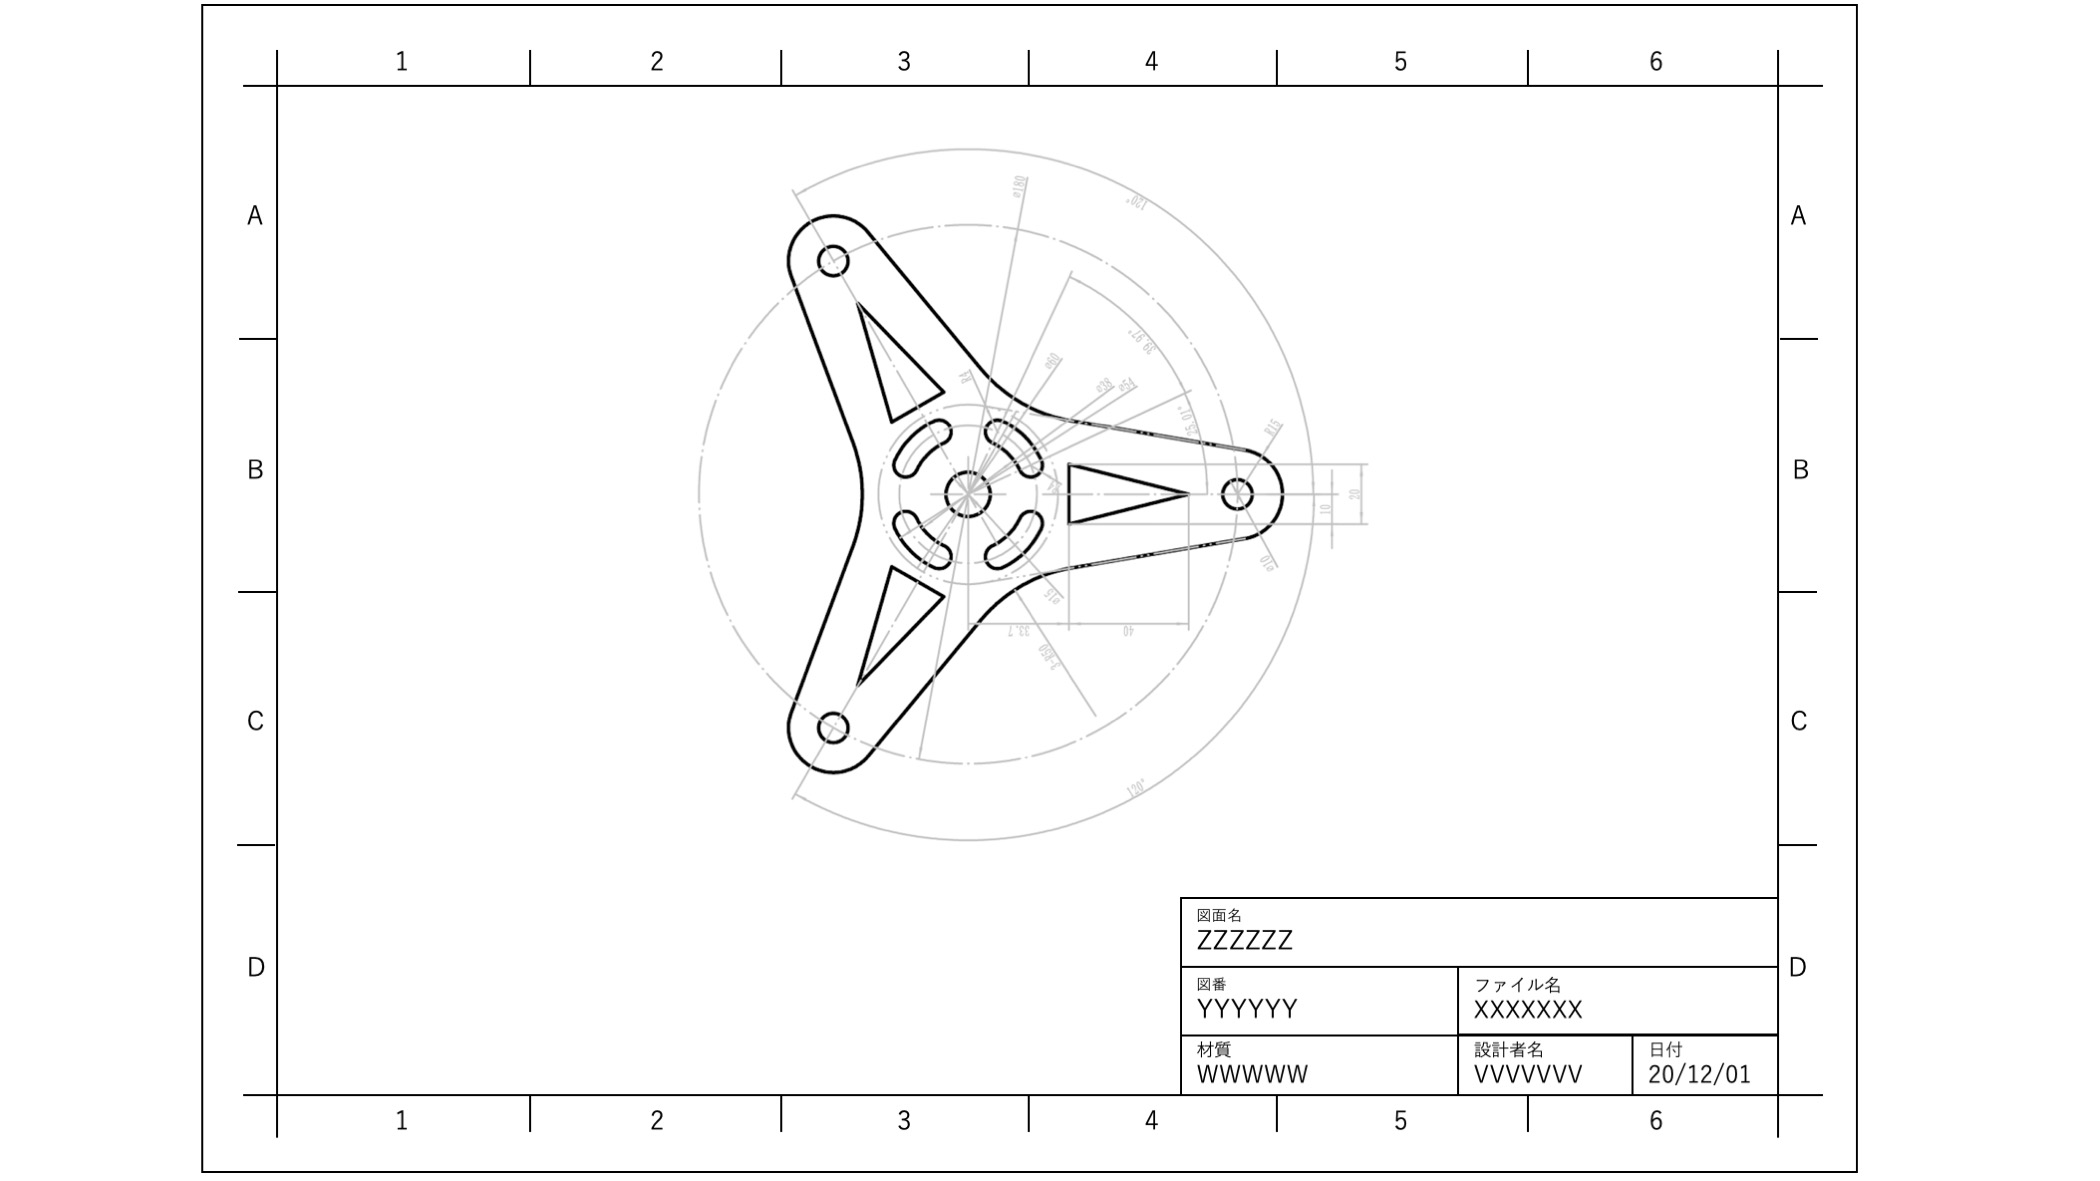circle: (945, 473, 992, 518), (812, 236, 855, 283), (1222, 469, 1255, 516), (815, 705, 850, 743)
round_rectangle: (883, 505, 958, 567), (887, 410, 955, 477), (982, 412, 1047, 482), (984, 506, 1049, 571)
triangle: (852, 567, 950, 686), (852, 296, 948, 418), (1063, 453, 1190, 538)
